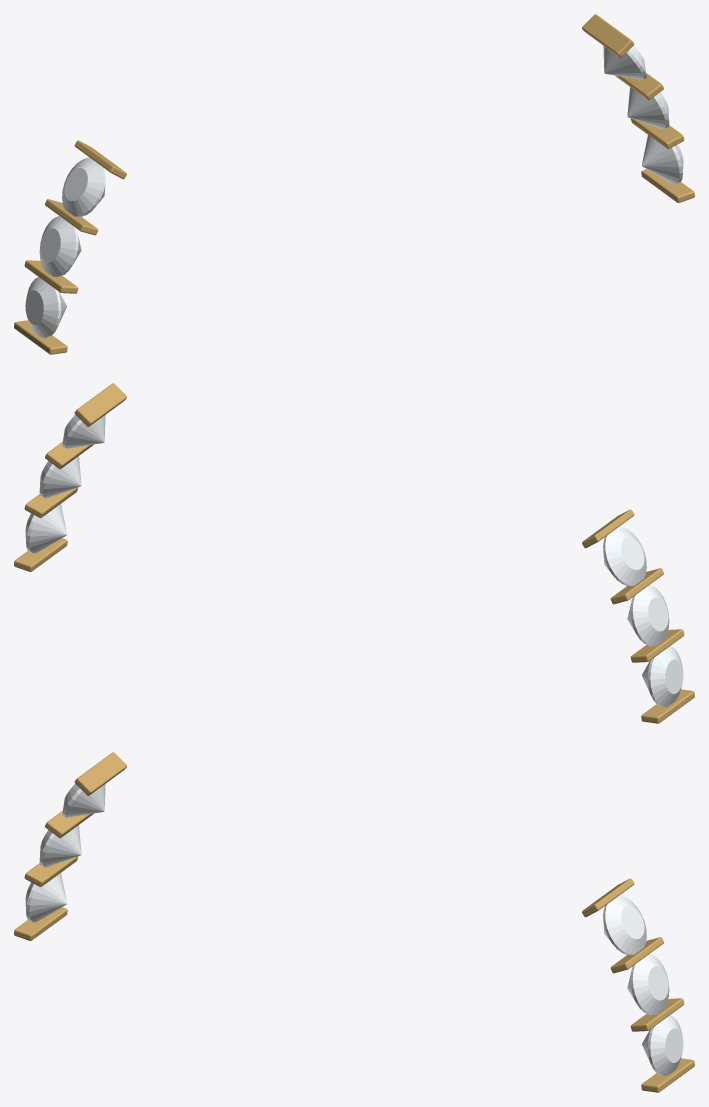
The model's file is accents-bar-wide.glb.
The picture shows the model from 3 angles, top to bottom: view 1: azimuth 30°, elevation 25°; view 2: azimuth 150°, elevation 25°; view 3: azimuth 330°, elevation 25°; orthographic projection.
Parts seen in each view (by area): view 1: Gem, Gem.001, Gem.002, Gem.005, Gem.004, Setting bar.004, Gem.003, Setting bar.007, Setting bar, Setting bar.006, Setting bar.001, Setting bar.002 (+2 smaller); view 2: Gem, Gem.001, Gem.002, Gem.005, Gem.004, Setting bar.004, Gem.003, Setting bar.007, Setting bar, Setting bar.006, Setting bar.001, Setting bar.002 (+2 smaller); view 3: Gem.003, Gem.004, Gem.005, Gem.002, Gem.001, Setting bar.003, Gem, Setting bar, Setting bar.007, Setting bar.001, Setting bar.006, Setting bar.005 (+2 smaller).
Boxes of the visible parts, bbox=[...] form: Gem: bbox=[62, 157, 105, 216]; Gem.001: bbox=[39, 216, 81, 276]; Gem.002: bbox=[25, 277, 66, 337]; Gem.005: bbox=[642, 135, 683, 184]; Gem.004: bbox=[627, 87, 669, 129]; Setting bar.004: bbox=[582, 14, 634, 57]; Gem.003: bbox=[603, 45, 646, 79]; Setting bar.007: bbox=[641, 169, 694, 202]; Setting bar: bbox=[14, 320, 67, 354]; Setting bar.006: bbox=[630, 118, 684, 148]; Setting bar.001: bbox=[24, 260, 78, 293]; Setting bar.002: bbox=[45, 199, 98, 235]; Gem: bbox=[603, 526, 646, 585]; Gem.001: bbox=[627, 585, 669, 645]; Gem.002: bbox=[642, 646, 683, 706]; Gem.005: bbox=[25, 504, 66, 553]; Gem.004: bbox=[39, 456, 81, 498]; Setting bar.004: bbox=[74, 383, 126, 426]; Gem.003: bbox=[62, 414, 105, 448]; Setting bar.007: bbox=[14, 538, 67, 571]; Setting bar: bbox=[641, 689, 694, 723]; Setting bar.006: bbox=[24, 487, 78, 517]; Setting bar.001: bbox=[630, 629, 684, 662]; Setting bar.002: bbox=[610, 568, 663, 604]; Gem.003: bbox=[603, 895, 646, 954]; Gem.004: bbox=[627, 954, 669, 1014]; Gem.005: bbox=[642, 1015, 683, 1075]; Gem.002: bbox=[25, 873, 66, 922]; Gem.001: bbox=[39, 825, 81, 867]; Setting bar.003: bbox=[74, 752, 126, 795]; Gem: bbox=[62, 783, 105, 817]; Setting bar: bbox=[14, 907, 67, 940]; Setting bar.007: bbox=[641, 1058, 694, 1092]; Setting bar.001: bbox=[24, 856, 78, 886]; Setting bar.006: bbox=[630, 998, 684, 1031]; Setting bar.005: bbox=[610, 937, 663, 973].
Bounding box in the file's own units: 19.8 × 5.12 × 1.95.
